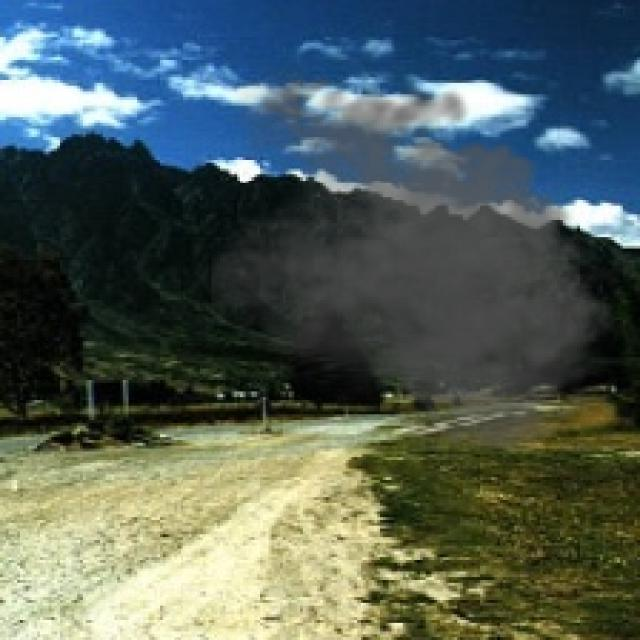Smoke: (212, 63, 632, 460)
